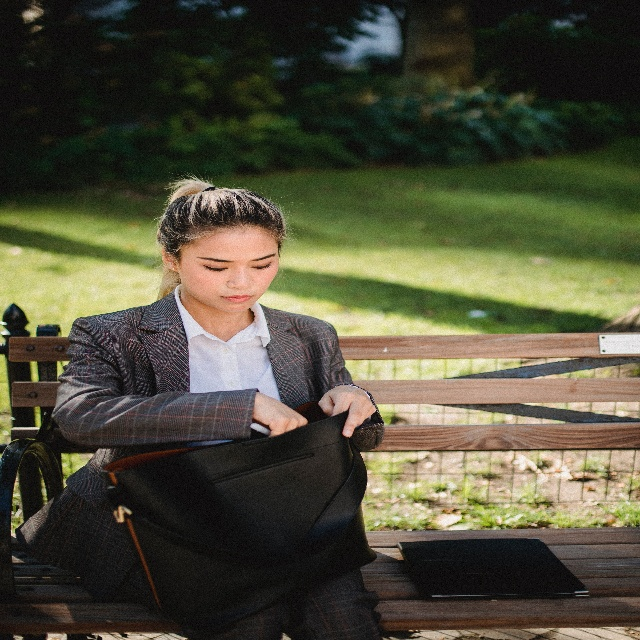Sin_guantes: (318, 380, 377, 439), (255, 390, 309, 439)
